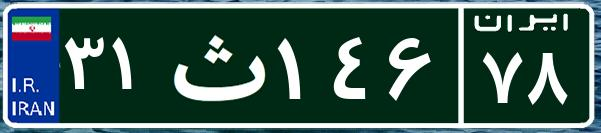1: (273, 28, 330, 110), (110, 28, 158, 105)
3: (57, 26, 110, 107)
4: (330, 28, 385, 110)
6: (385, 28, 445, 110)
7: (475, 38, 525, 113)
8: (525, 38, 570, 115)
ث: (158, 15, 273, 115)
